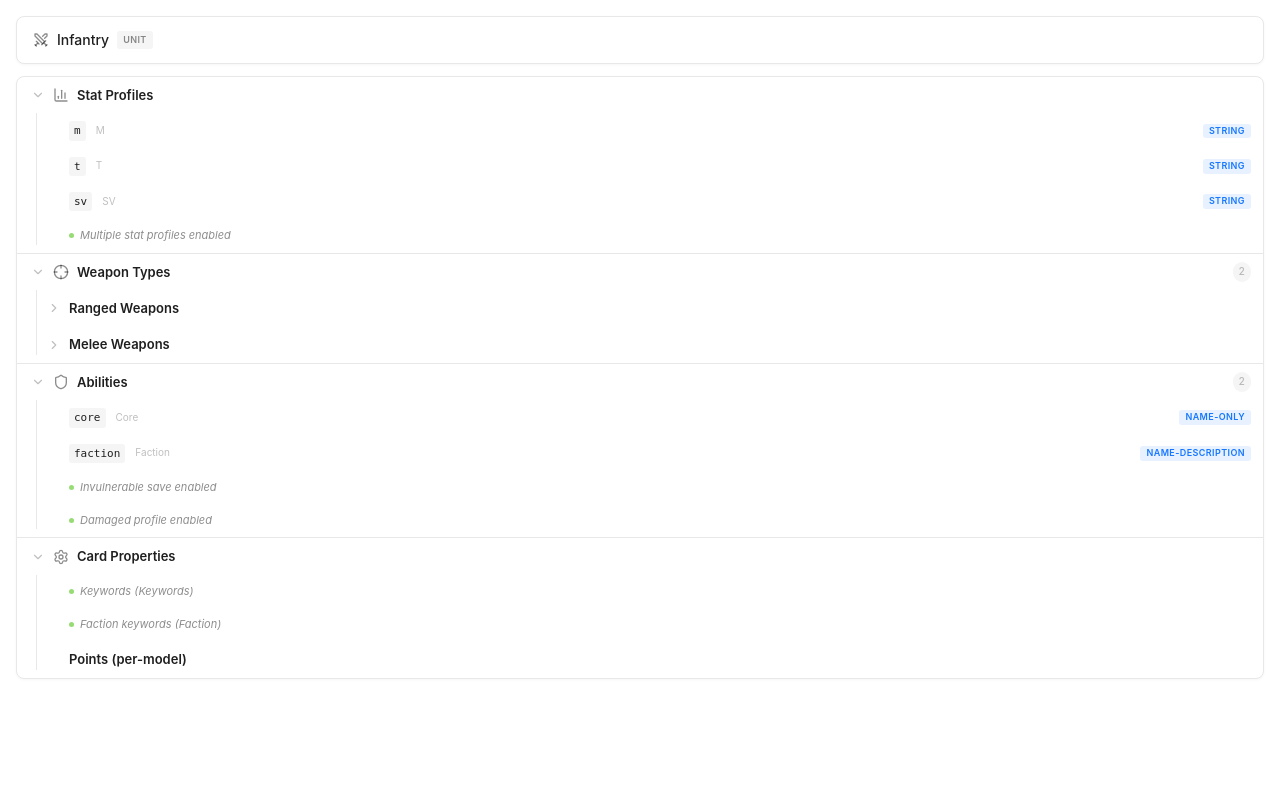
Test: SchemaTreeView › tree node interactions › collapses and expands sections on click
Expected: the text "m" is shown, [69,121,86,141]
// Click Stats to collapse
Step 1. Click the button "Stat Profiles" → (115, 95), box [17,77,1263,113]
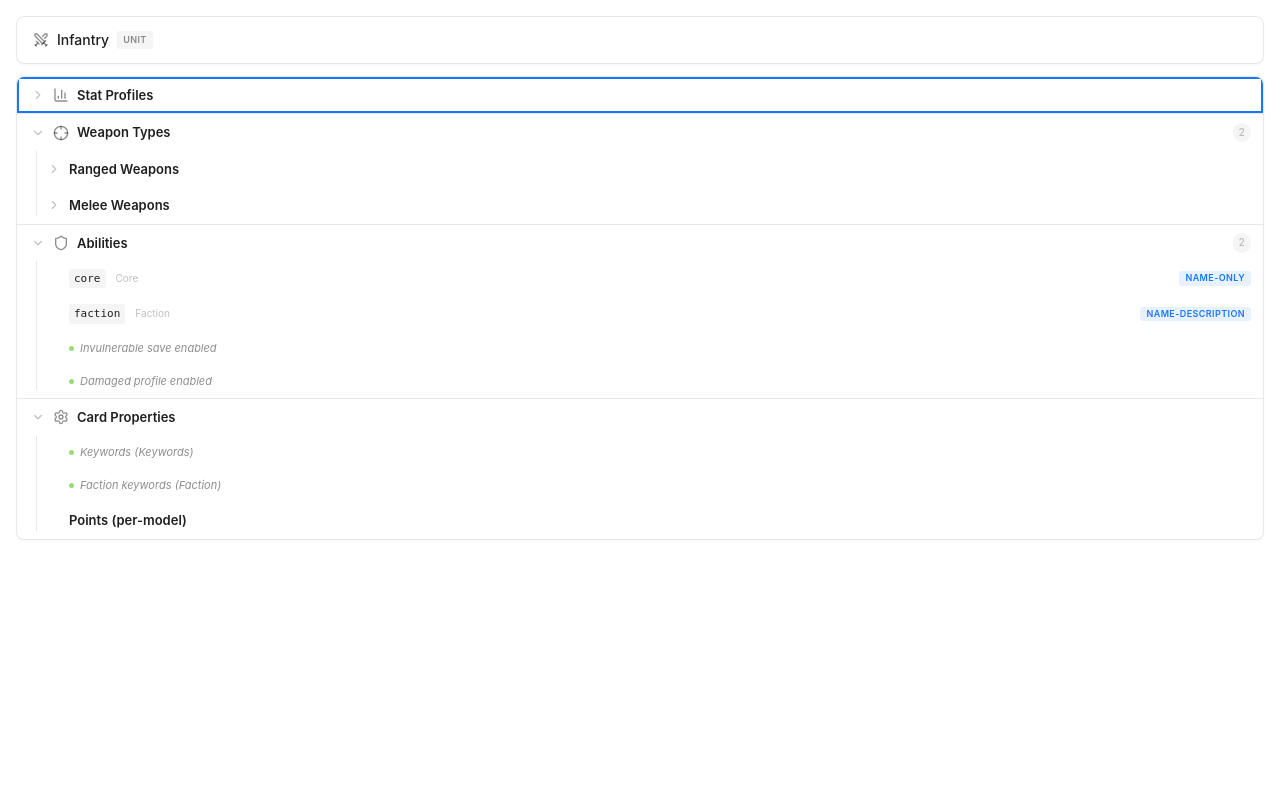
// Click again to expand
Step 2. Click the button "Stat Profiles" → (115, 95), box [17,77,1263,113]
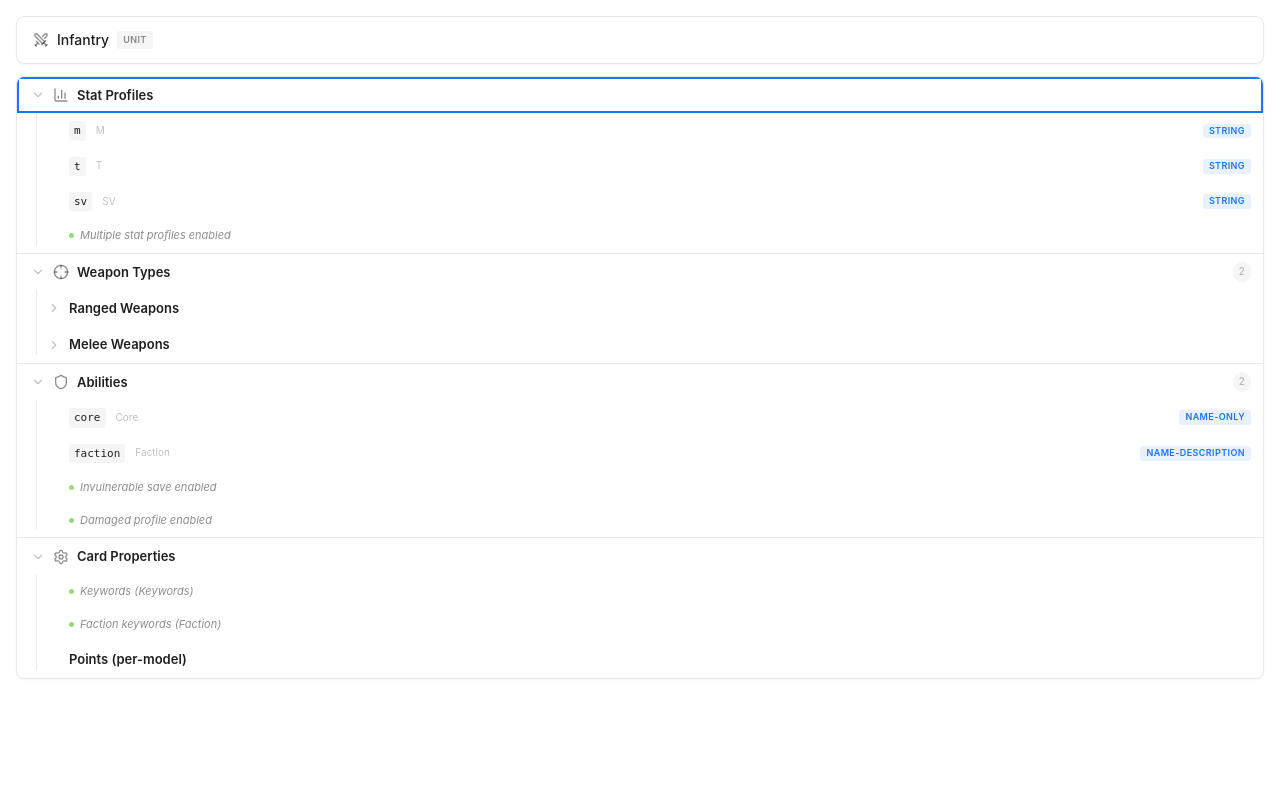
Expected: the text "m" is shown, [69,121,86,141]
